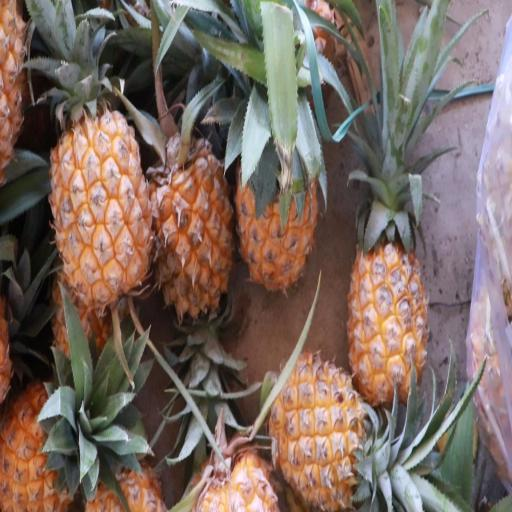Pineapple - v8 v1: (45, 80, 157, 312), (343, 165, 430, 407), (140, 118, 235, 322), (258, 346, 371, 511), (235, 96, 322, 299)
